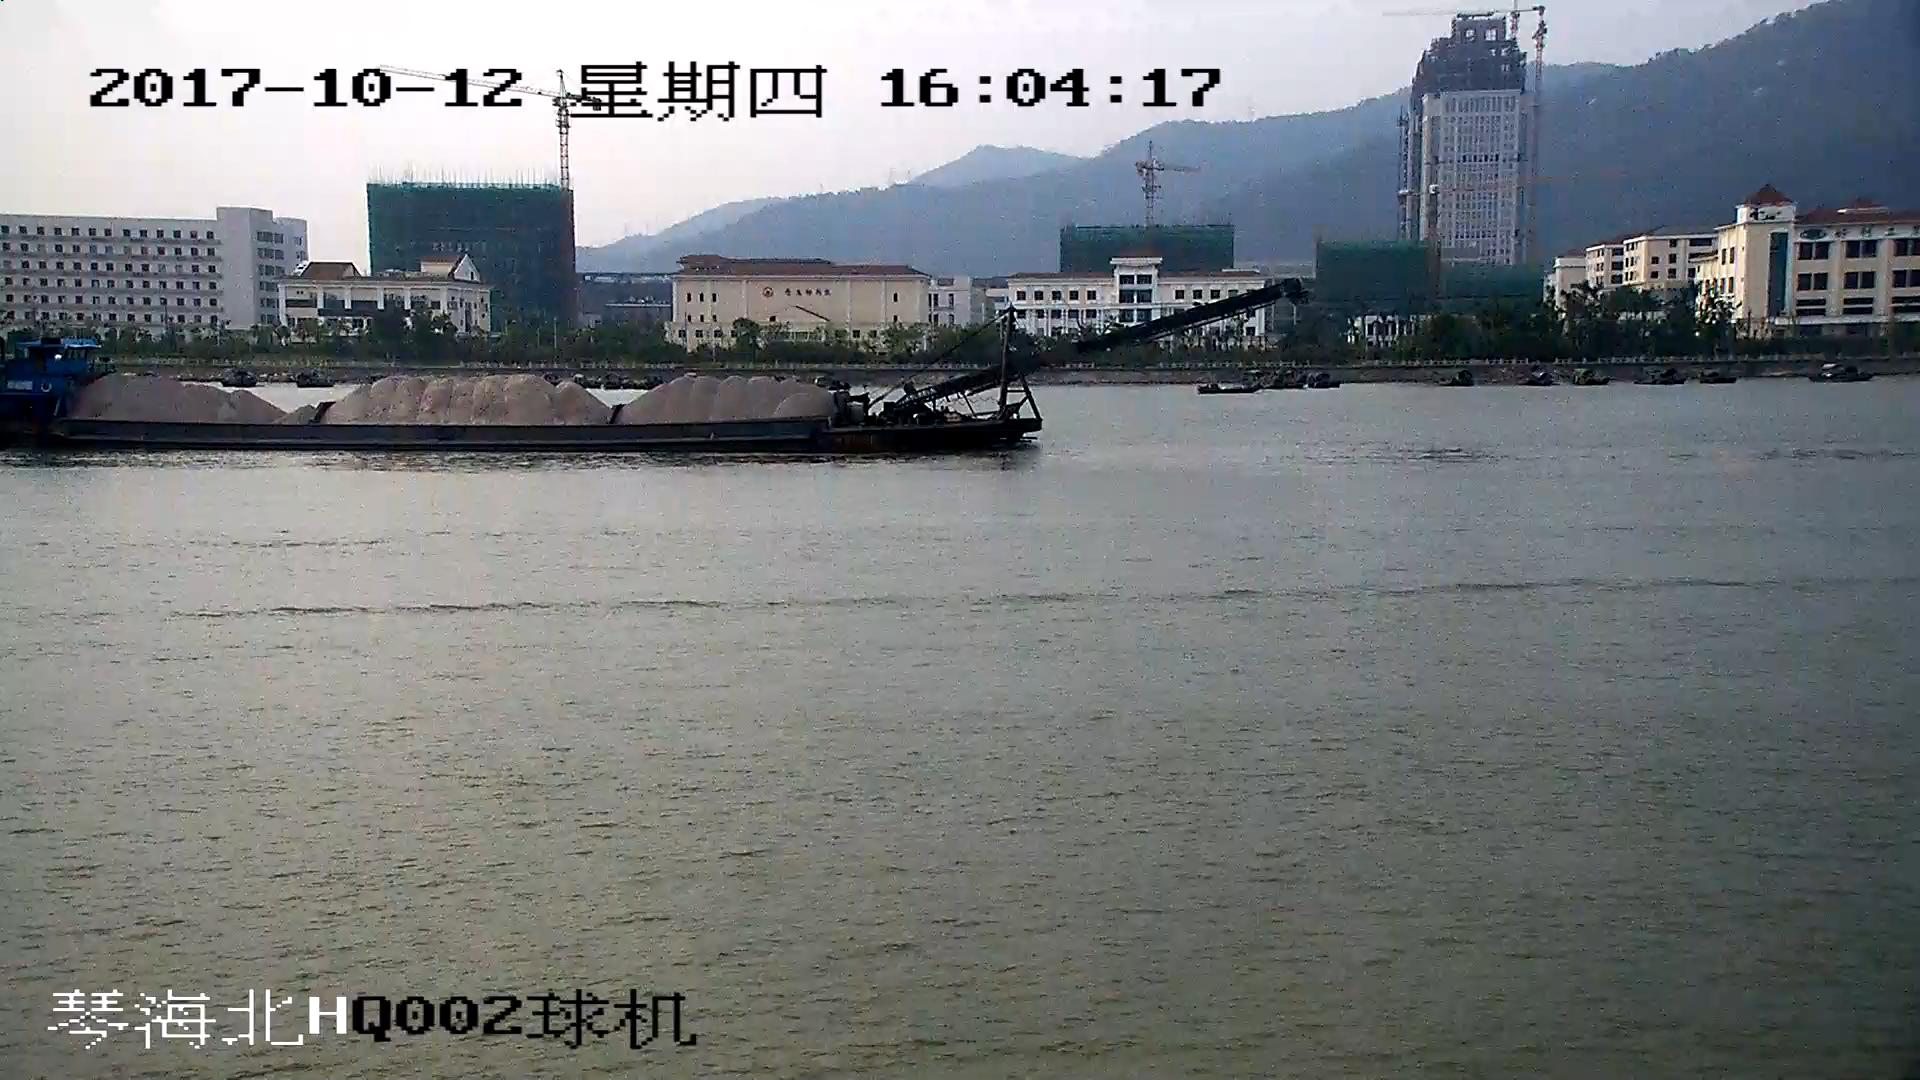ore carrier: (1, 285, 1291, 451)
